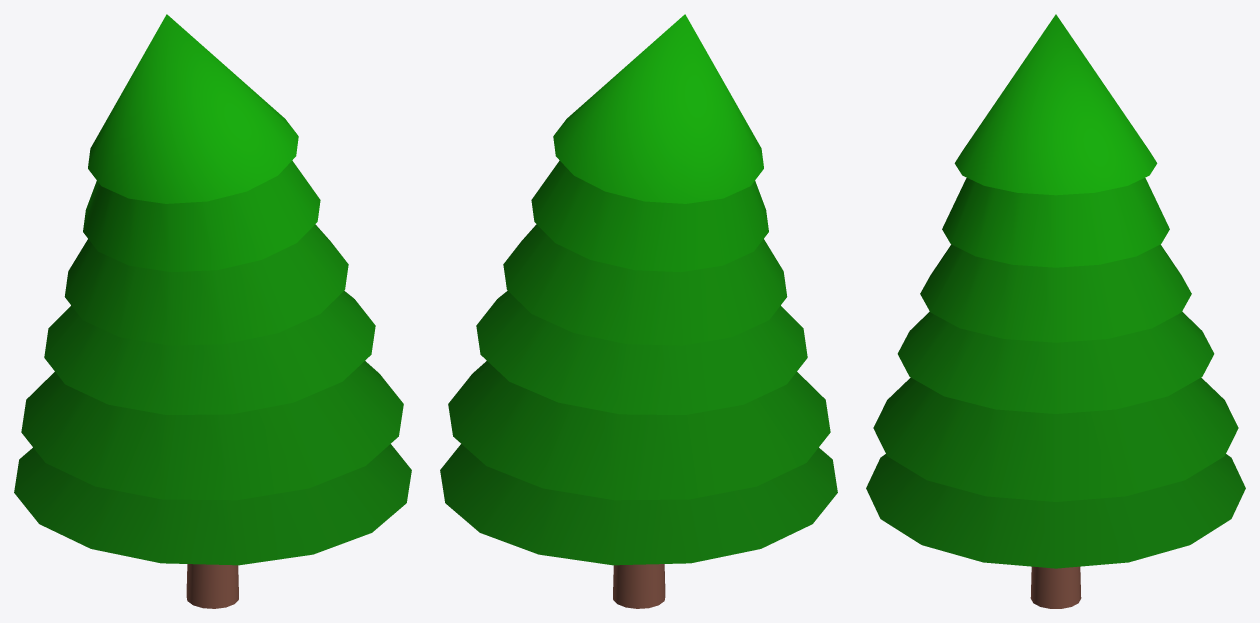
Rendered from Spruce_Cold_Green_Thick_3.fbx.
3 renders of one model, left to right at view 1: azimuth 30°, elevation 25°; view 2: azimuth 150°, elevation 25°; view 3: azimuth 270°, elevation 25°, orthographic. The views are drawn at different scales.
Parts seen in each view (by area): view 1: Cylinder.944, Cylinder.945, Cylinder.943, Cylinder.942, Cylinder.940, Cylinder.941, Cylinder.946; view 2: Cylinder.944, Cylinder.945, Cylinder.943, Cylinder.942, Cylinder.940, Cylinder.941, Cylinder.946; view 3: Cylinder.944, Cylinder.945, Cylinder.942, Cylinder.943, Cylinder.940, Cylinder.941, Cylinder.946.
Part boxes in pixels (<box>): Cylinder.944: <box>21,361,403,500</box>; Cylinder.945: <box>14,444,411,565</box>; Cylinder.943: <box>88,14,298,203</box>; Cylinder.942: <box>44,290,375,414</box>; Cylinder.940: <box>64,224,348,345</box>; Cylinder.941: <box>83,160,320,272</box>; Cylinder.946: <box>186,564,238,608</box>; Cylinder.944: <box>448,361,830,500</box>; Cylinder.945: <box>440,444,837,565</box>; Cylinder.943: <box>553,14,763,203</box>; Cylinder.942: <box>476,290,807,414</box>; Cylinder.940: <box>503,224,787,345</box>; Cylinder.941: <box>531,160,768,272</box>; Cylinder.946: <box>613,564,665,608</box>; Cylinder.944: <box>873,377,1238,501</box>; Cylinder.945: <box>866,454,1245,568</box>; Cylinder.942: <box>897,311,1214,413</box>; Cylinder.943: <box>954,14,1157,195</box>; Cylinder.940: <box>920,244,1191,342</box>; Cylinder.941: <box>942,178,1169,267</box>; Cylinder.946: <box>1030,566,1081,608</box>.
Bounding box in the file's own units: 349 × 571 × 349.
